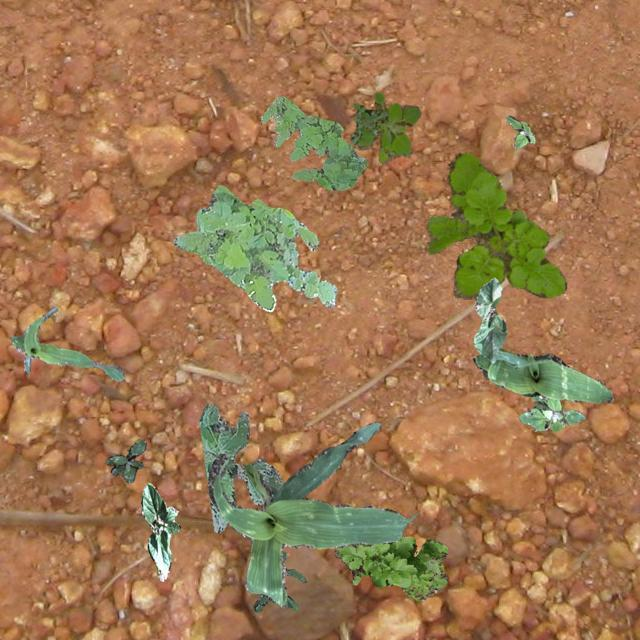crop: (206, 420, 412, 606), (10, 306, 124, 380), (472, 347, 612, 402), (140, 482, 180, 580), (472, 276, 506, 362)
weed: (172, 184, 336, 310), (426, 152, 566, 298), (198, 404, 282, 532), (260, 94, 366, 190), (334, 536, 446, 600), (352, 91, 420, 162), (252, 550, 304, 610), (518, 394, 584, 430), (104, 438, 144, 482), (350, 102, 388, 142), (504, 114, 534, 148)
